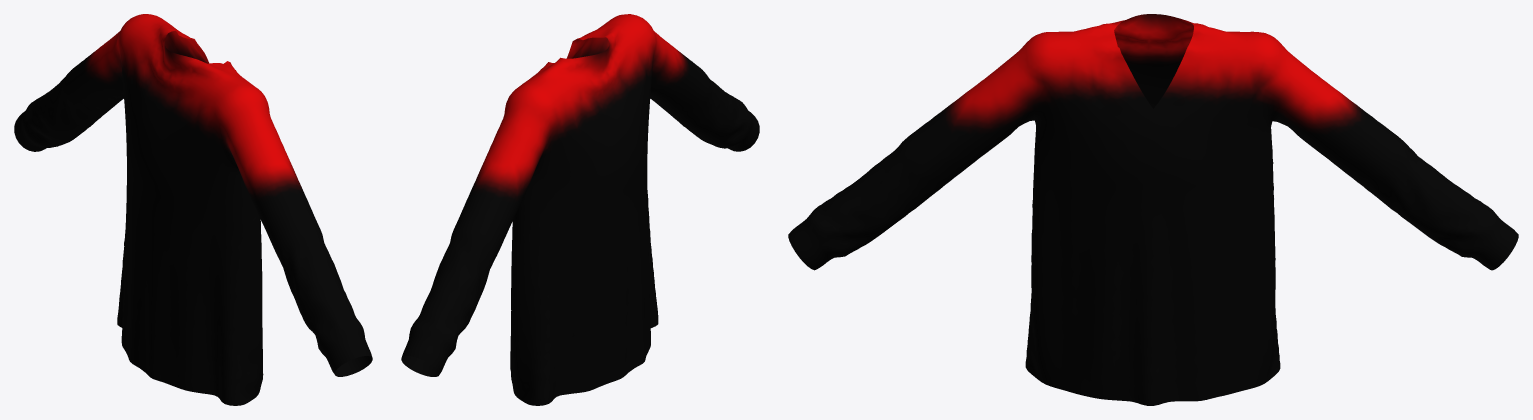
Rendered from satin_blouse.fbx.
3 views of the same model, side by side, from view 1: azimuth 30°, elevation 25°; view 2: azimuth 150°, elevation 25°; view 3: azimuth 270°, elevation 25° (orthographic). The views are drawn at different scales.
Parts seen in each view (by area): view 1: satin_blouse; view 2: satin_blouse; view 3: satin_blouse.
Part boxes in pixels (box(x1,y1,x2,y2)): satin_blouse: box(14, 14, 372, 405); satin_blouse: box(401, 14, 759, 405); satin_blouse: box(788, 14, 1518, 405).
Bounding box in the file's own units: 25.05 × 127 × 67.37.
